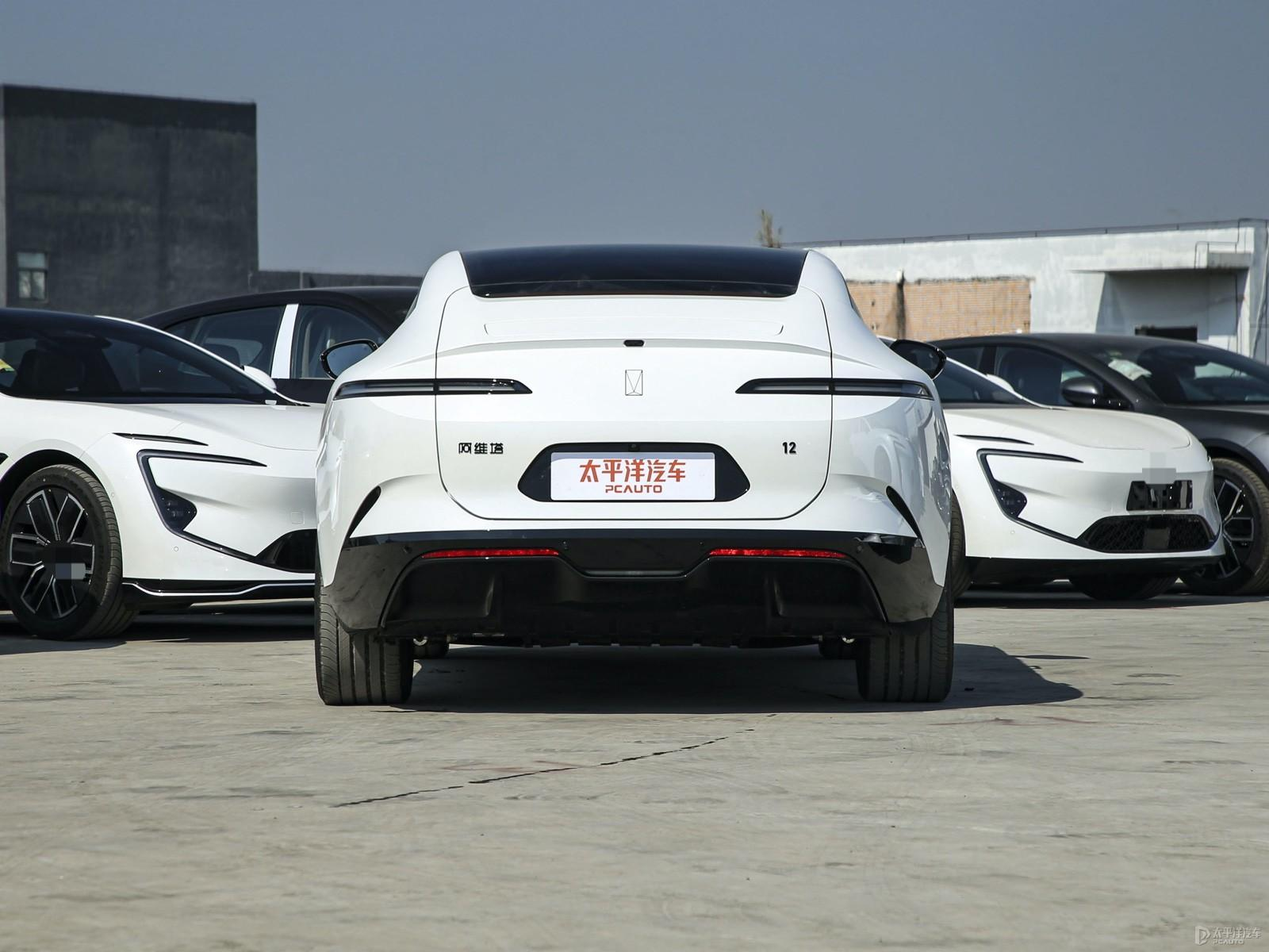AVATR: (625, 370, 643, 396)
